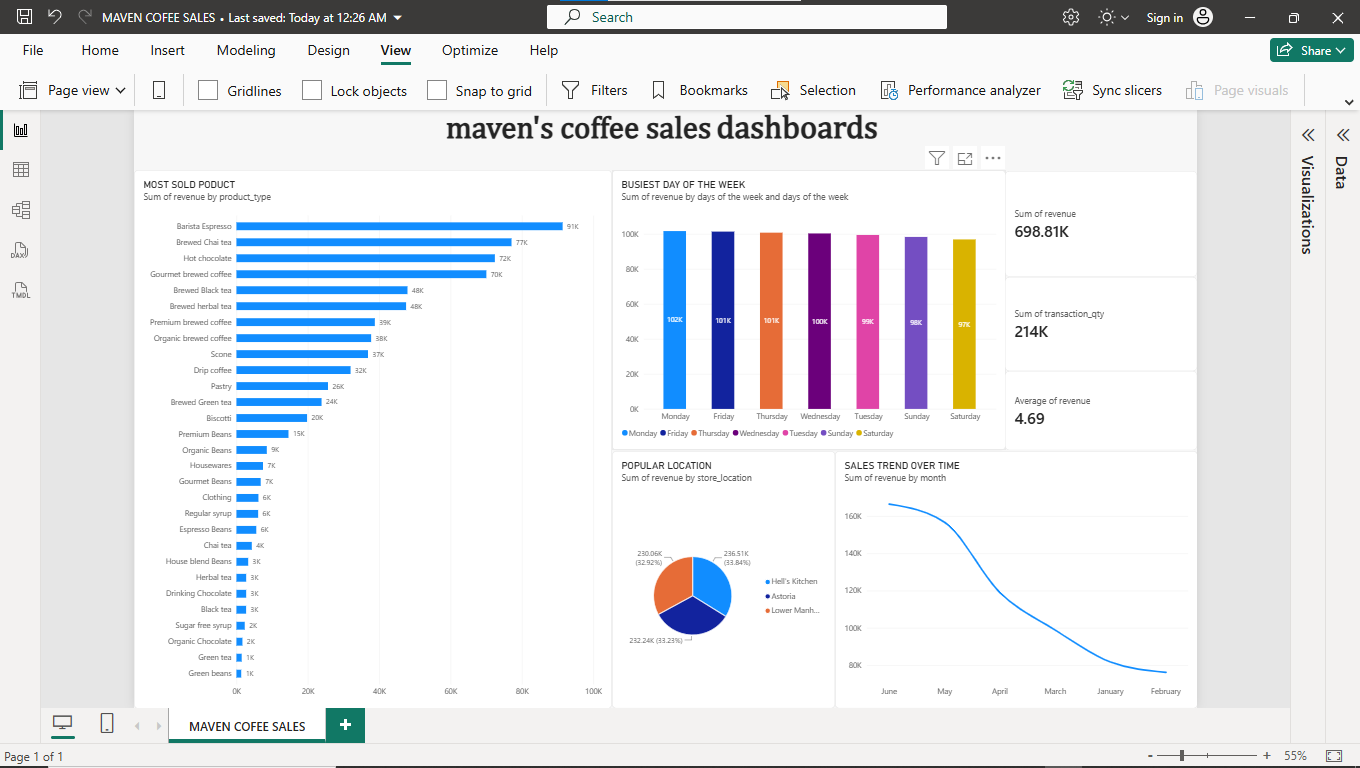

What the dashboard file says about the page in this screenshot:
{"tool":"powerbi","page":{"name":"MAVEN COFEE SALES","canvas":[1920,1080],"ordinal":0},"visuals":[{"type":"lineChart","title":"SALES TREND OVER TIME","fields":{"Category":["SALES ANALYSIS.month"],"Y":["Sum(SALES ANALYSIS.revenue)"]},"box":[1265.5,615.1,654.5,465.5],"z":0},{"type":"columnChart","title":"BUSIEST DAY OF THE WEEK","fields":{"Category":["SALES ANALYSIS.days of the week"],"Series":["SALES ANALYSIS.days of the week"],"Y":["Sum(SALES ANALYSIS.revenue)"]},"box":[863.2,108.4,711.5,506.5],"z":1},{"type":"clusteredBarChart","title":"MOST SOLD PODUCT","fields":{"Category":["SALES ANALYSIS.product_type"],"Y":["Sum(SALES ANALYSIS.revenue)"]},"box":[0,108.1,862.5,972.5],"z":2},{"type":"pieChart","title":"POPULAR LOCATION","fields":{"Category":["SALES ANALYSIS.store_location"],"Y":["Sum(SALES ANALYSIS.revenue)"]},"box":[862.5,615,402.5,465],"z":3},{"type":"textbox","box":[0,0,1920,108.1],"z":6},{"type":"cardVisual","fields":{"Data":["Sum(SALES ANALYSIS.revenue)"]},"box":[1573,110.1,347,191.2],"z":8},{"type":"cardVisual","fields":{"Data":["Sum(SALES ANALYSIS.transaction_qty)"]},"box":[1573,301.3,347,170.4],"z":9},{"type":"cardVisual","fields":{"Data":["Avg(SALES ANALYSIS.revenue)"]},"box":[1573,471.7,347,143.4],"z":10}]}

Visuals, with their boxes on the page's 1920x1080 design canvas (x1, y1, x2, y2). These are canvas units, not pixel positions in the 1360x768 screenshot, which may show the page scaled, cropped or inside an application window:
"SALES TREND OVER TIME" lineChart: (left=1266, top=615, right=1920, bottom=1081)
"BUSIEST DAY OF THE WEEK" columnChart: (left=863, top=108, right=1575, bottom=615)
"MOST SOLD PODUCT" clusteredBarChart: (left=0, top=108, right=862, bottom=1081)
"POPULAR LOCATION" pieChart: (left=862, top=615, right=1265, bottom=1080)
textbox: (left=0, top=0, right=1920, bottom=108)
cardVisual - Sum(SALES ANALYSIS.revenue): (left=1573, top=110, right=1920, bottom=301)
cardVisual - Sum(SALES ANALYSIS.transaction_qty): (left=1573, top=301, right=1920, bottom=472)
cardVisual - Avg(SALES ANALYSIS.revenue): (left=1573, top=472, right=1920, bottom=615)
